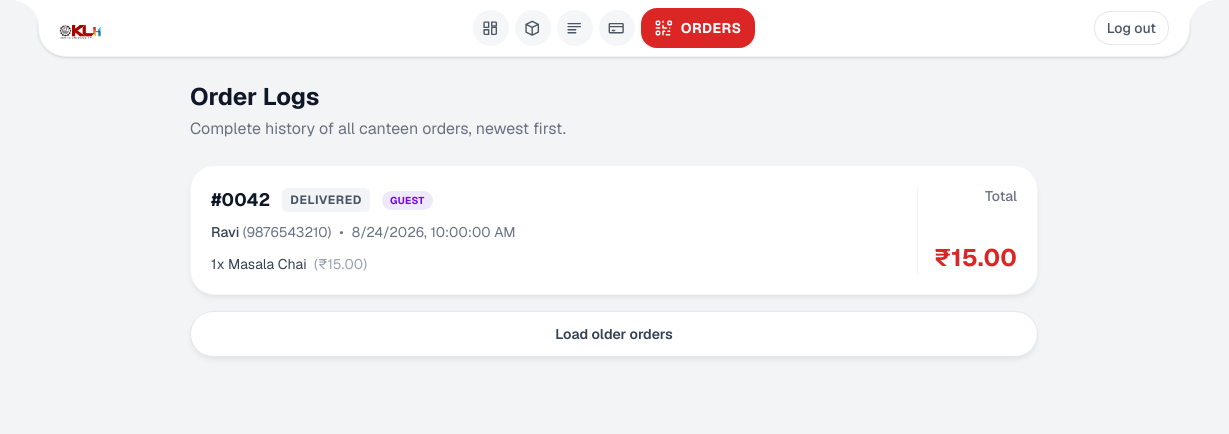
it: appends the next page instead of replacing what is on screen
Check: the text "Ravi" is shown, box [211,223,239,241]
Click the button "Load older orders" at point(614, 334), box [190,311,1038,357]
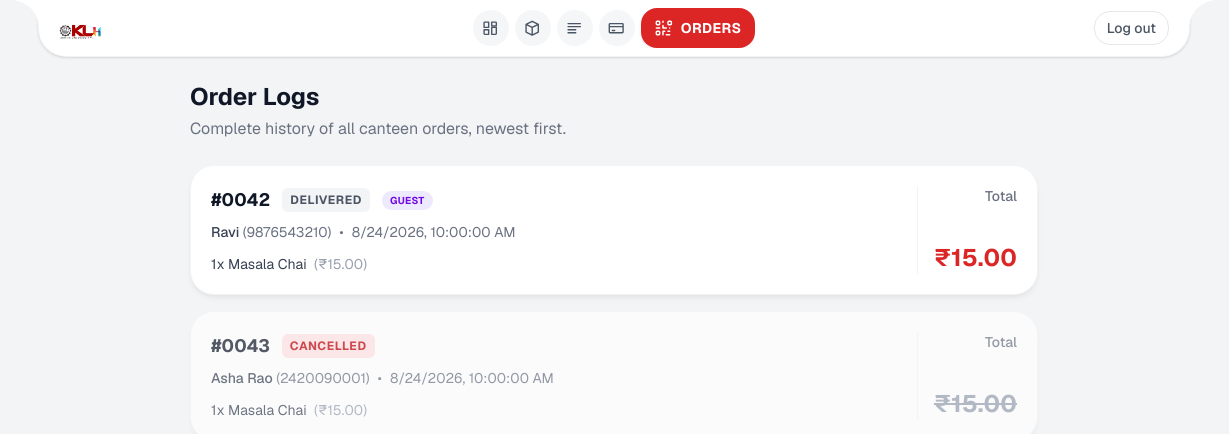
Check: the text "Ravi" is shown, box [211,223,239,241]
Check: the text "Asha Rao" is shown, box [211,369,273,387]
